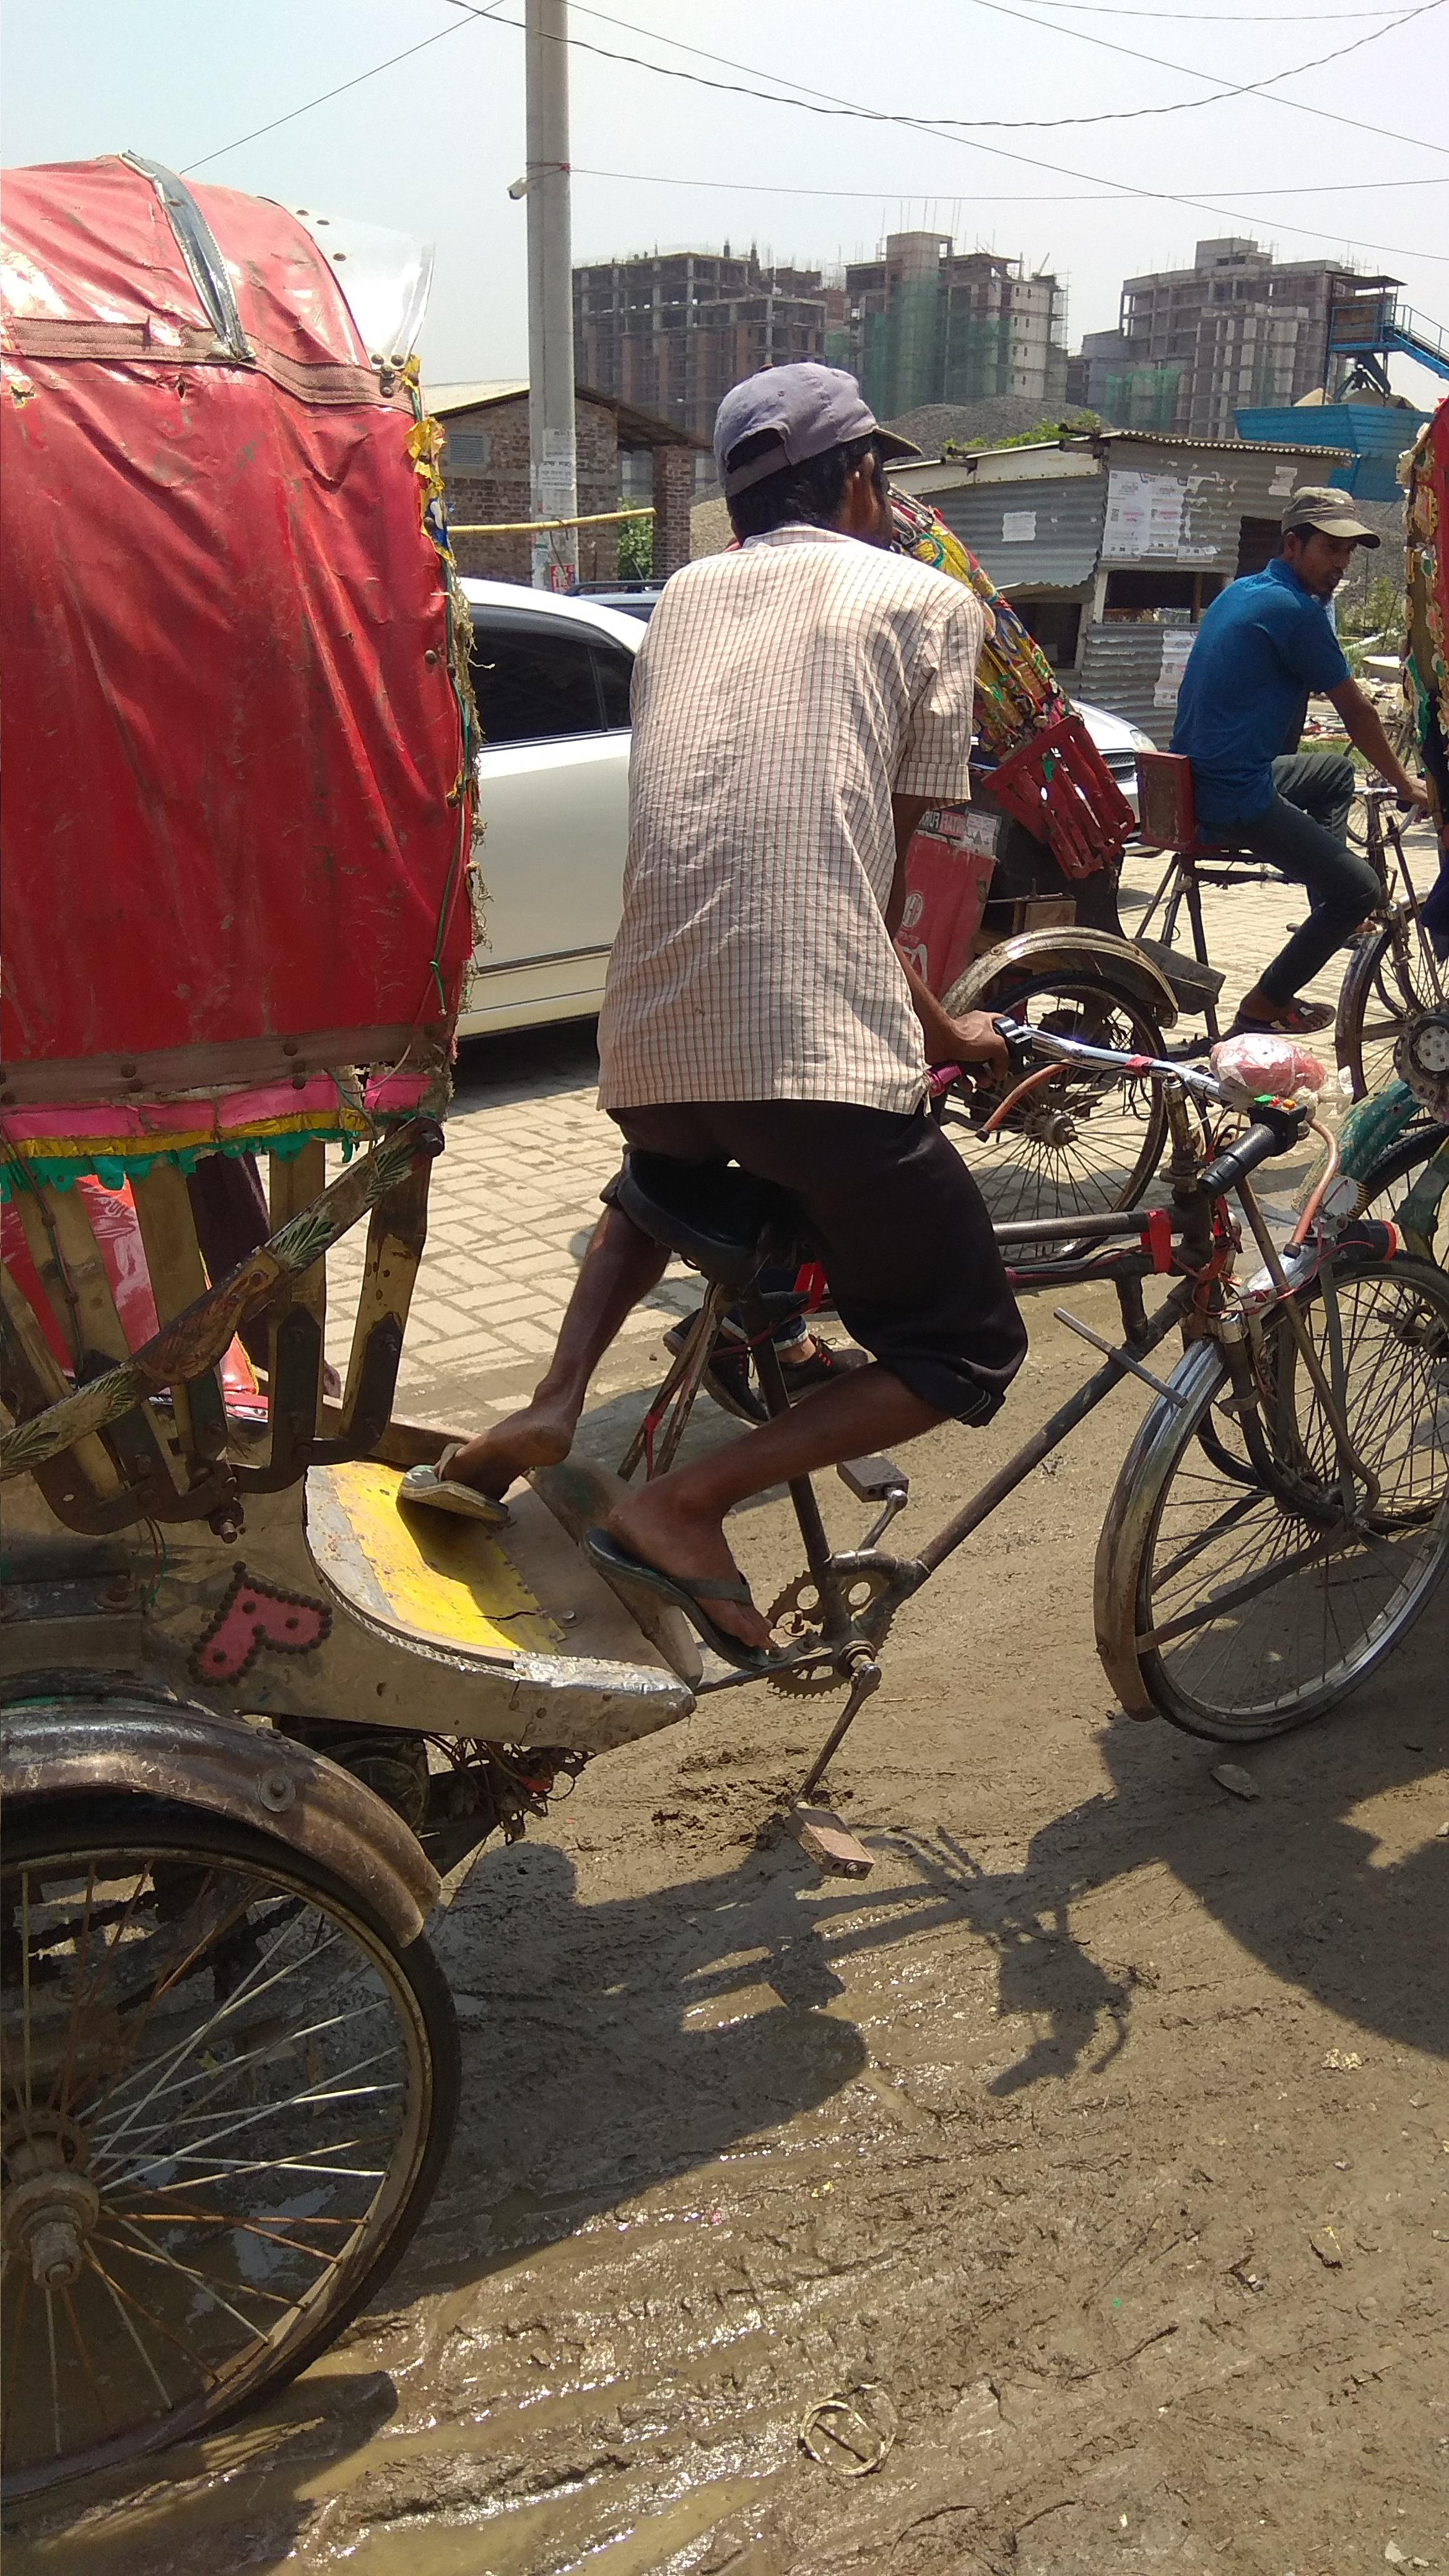Rickshaw: (12, 111, 1444, 2387), (863, 410, 1307, 1083)
